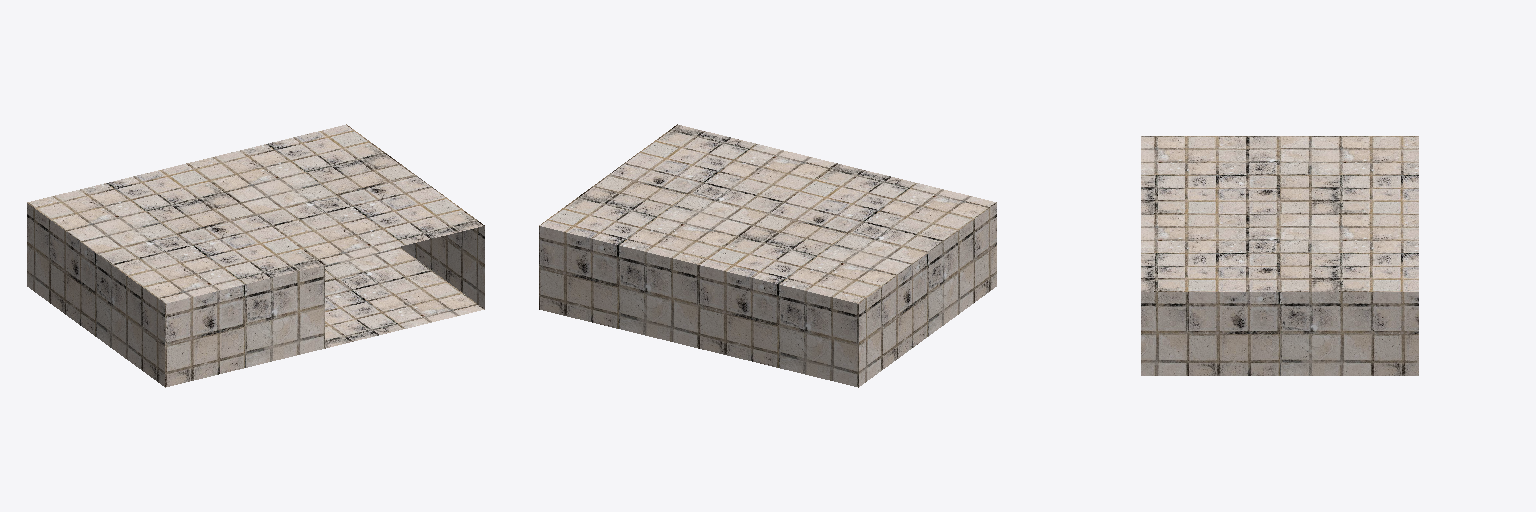
The picture shows the model from 3 angles: view 1: azimuth 30°, elevation 25°; view 2: azimuth 150°, elevation 25°; view 3: azimuth 270°, elevation 25°; orthographic projection.
Visible parts, largest first — view 1: LockerRoom; view 2: LockerRoom; view 3: LockerRoom.
Boxes of the visible parts, x1=… form: LockerRoom: x1=27, y1=124, x2=484, y2=387; LockerRoom: x1=539, y1=124, x2=996, y2=387; LockerRoom: x1=1141, y1=136, x2=1418, y2=375.
Bounding box in the file's own units: 16 × 4 × 12.
Materials: 1 (1 with a texture image).